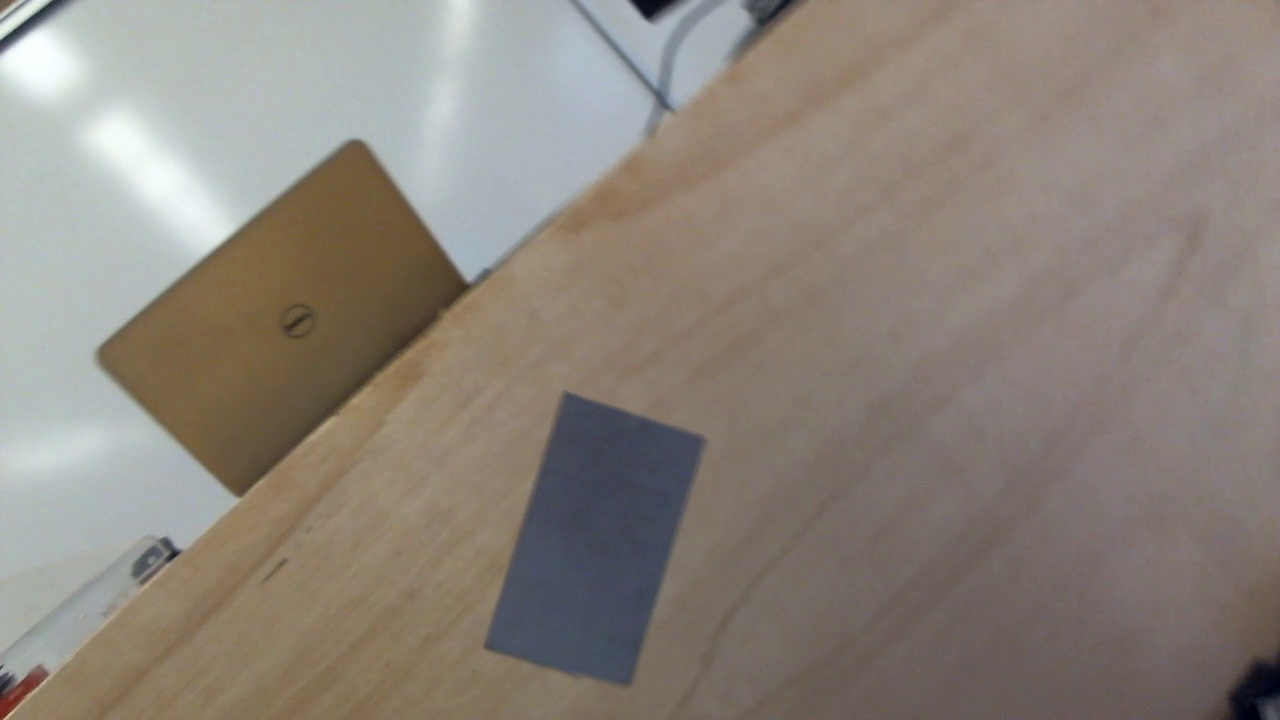Tape: (484, 390, 707, 688)
